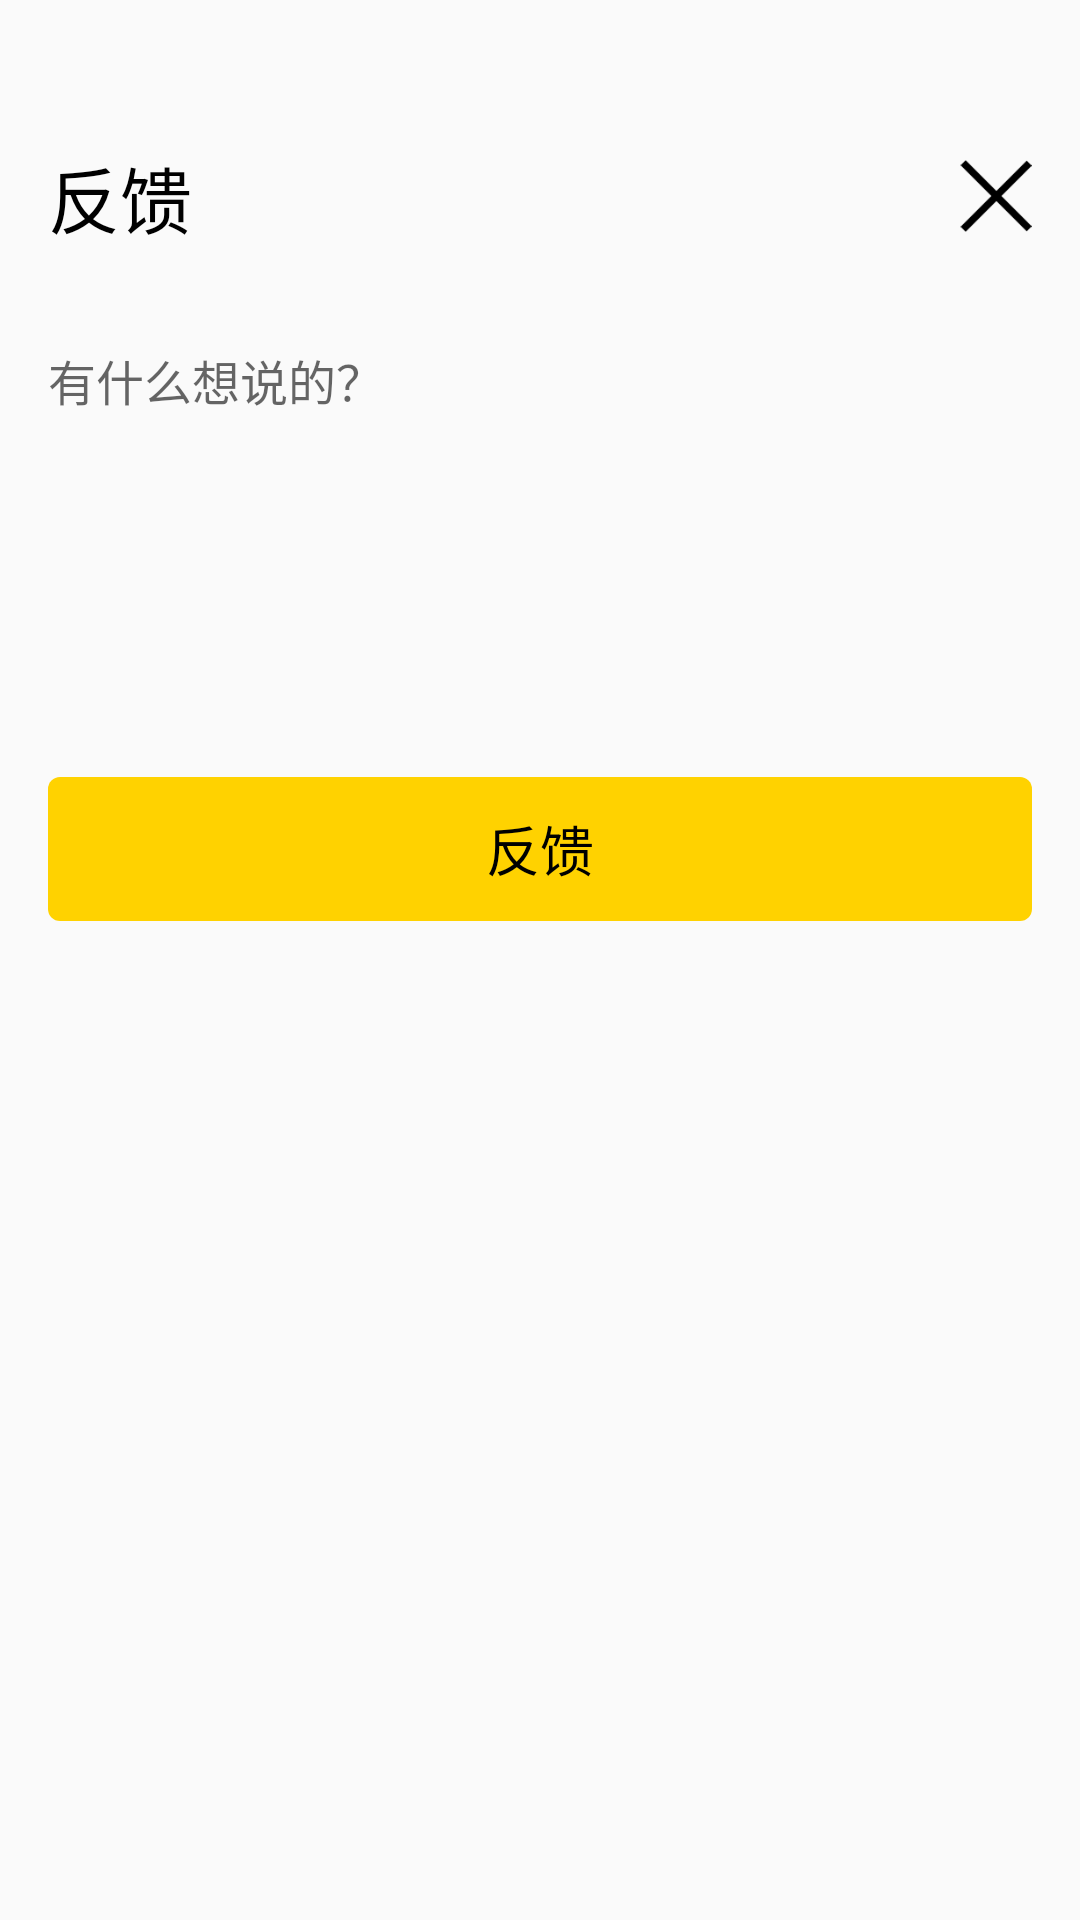

Icon click points for this 1080×1920 phone screenshot, format (x,y):
cancel: (996,196)
